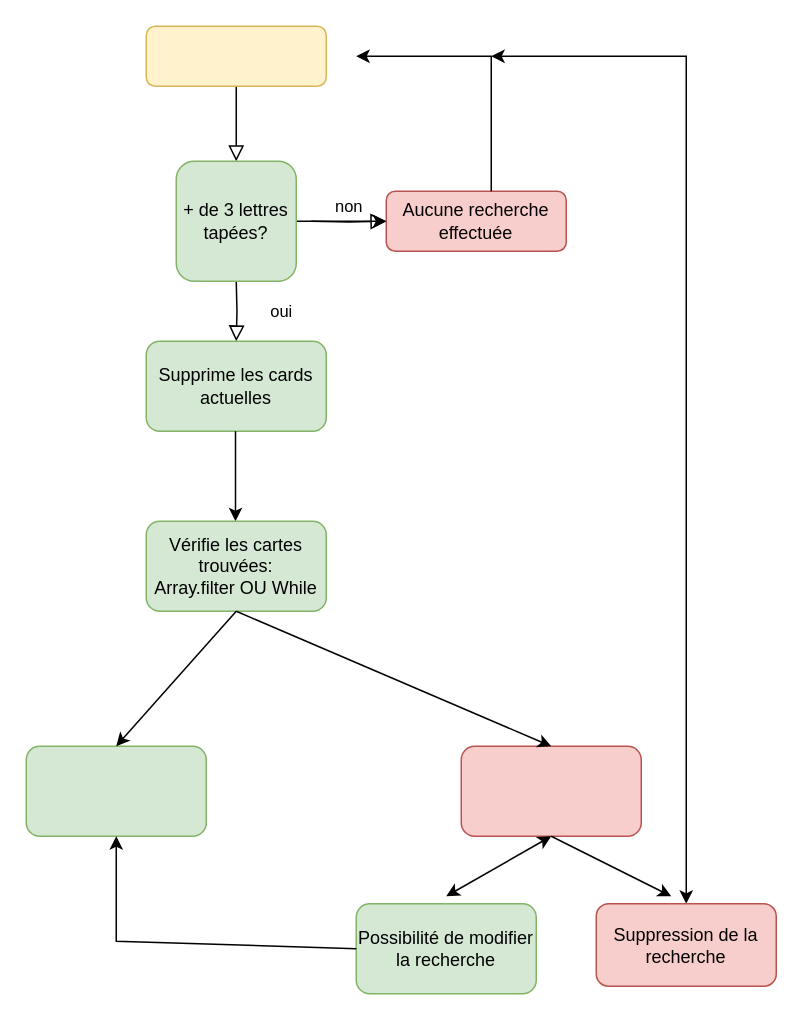
Image size: 803x1020. Some labels were removed from this diagram. Each missing label, with the centre of its shape:
Recherche utilisateur: [235,55]
Si aucun résultat : Message erreur: [550,790]
Si il y a des résultats : ils s'affichent: [115,790]
